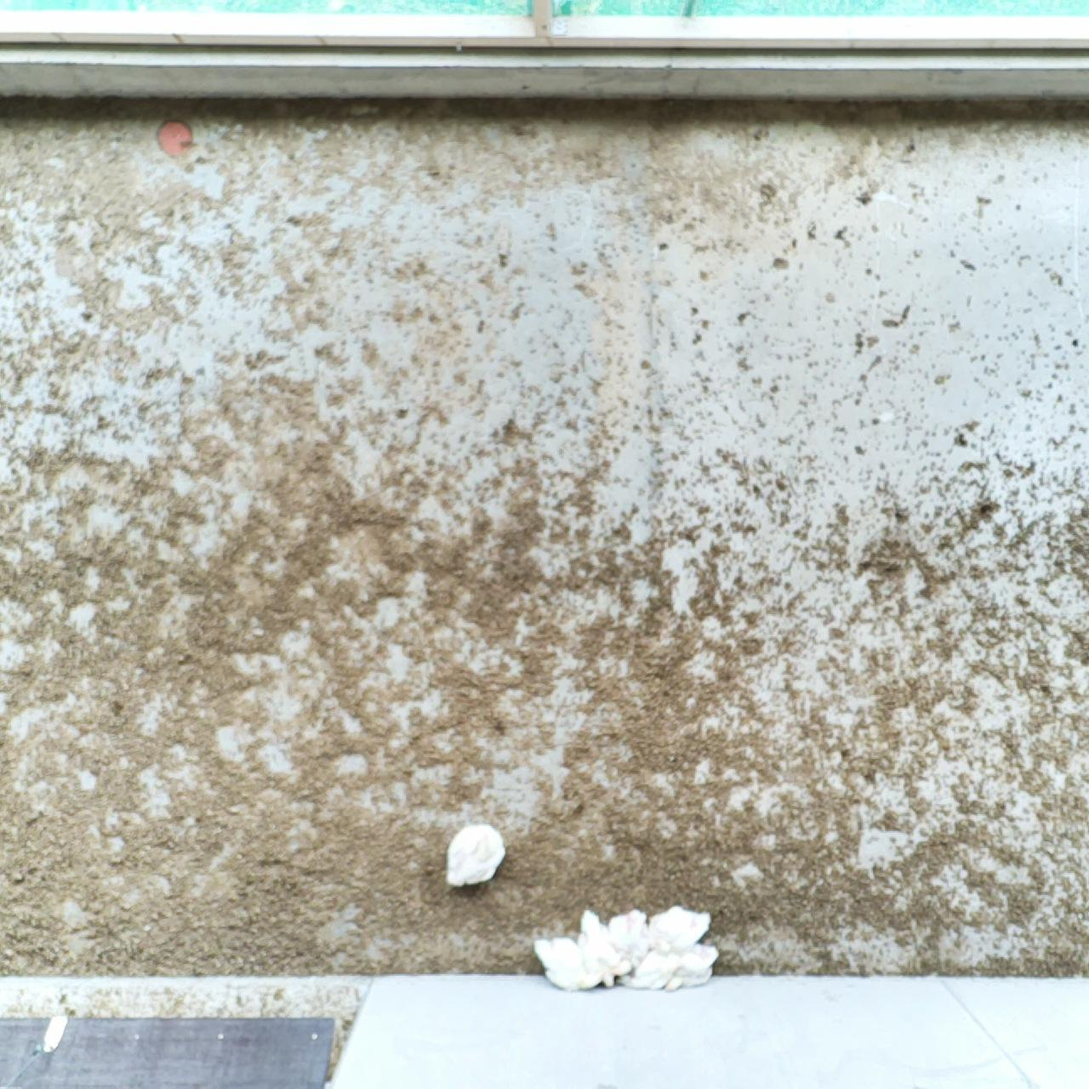chicken: (439, 813, 514, 894), (524, 933, 613, 995), (572, 906, 621, 989), (653, 899, 717, 953), (604, 909, 655, 975), (625, 942, 683, 991), (669, 939, 723, 978), (659, 964, 714, 993)
